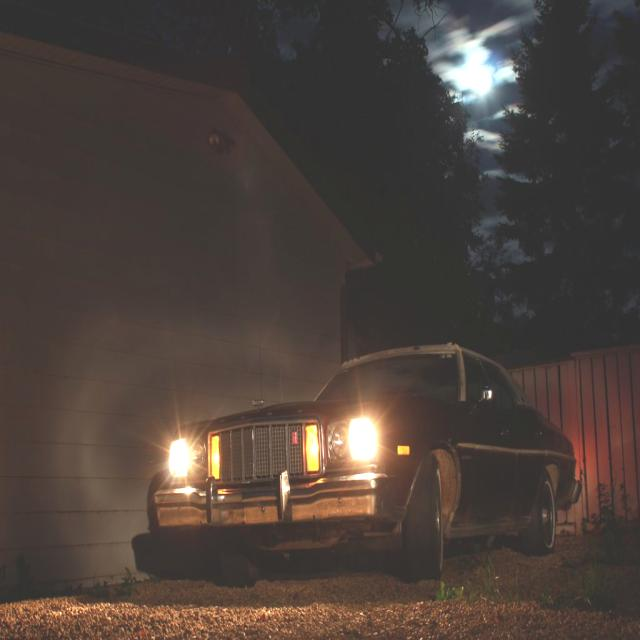Car: (150, 336, 578, 604)
